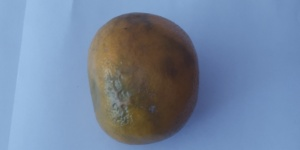BAD: (88, 10, 201, 146)
